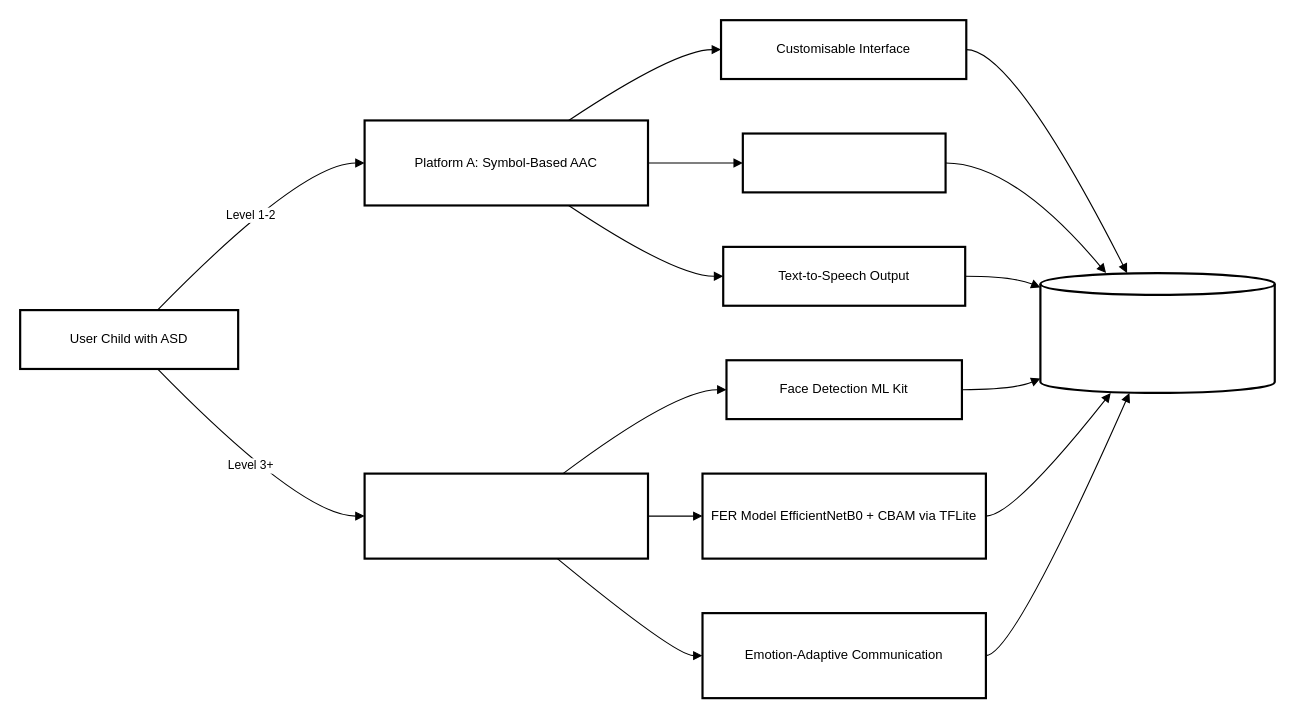
Image size: 1294x717. Some labels were removed from this diagram. The shapes that lost their labels are listed below. From the top down, each one's centre as x and y in pixels, then its label:
At (843,162): "Trilingual Support".
At (1157,332): "Local Storage SQLite / JSON".
At (506,515): "Platform B: AI-Enhanced AAC with FER".
